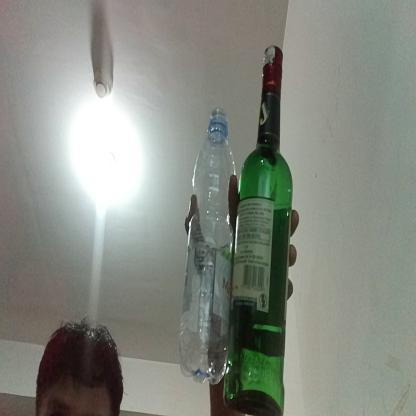objects: (222, 44, 293, 416)
plastic_bottles: (177, 102, 237, 384)
